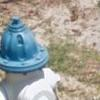a fire hydrant: (0, 13, 55, 99)
